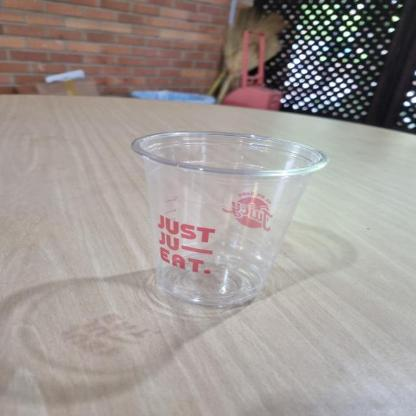Plastic Cup: (126, 126, 330, 314)
